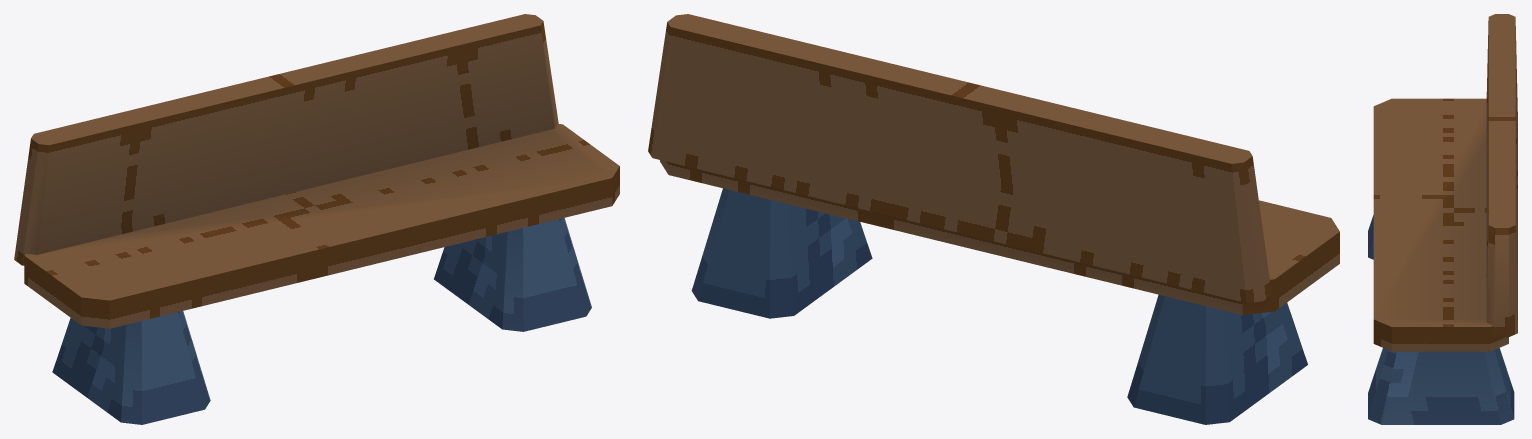
File: cydress.bench.glb
The picture shows the model from 3 angles, left to right: view 1: azimuth 30°, elevation 25°; view 2: azimuth 150°, elevation 25°; view 3: azimuth 270°, elevation 25°; orthographic projection. The views are drawn at different scales.
Parts seen in each view (by area): view 1: kit_body; view 2: kit_body; view 3: kit_body.
Part boxes in pixels (box(x1,y1,x2,y2)): kit_body: box(14, 14, 619, 424); kit_body: box(648, 14, 1339, 424); kit_body: box(1368, 14, 1517, 424).
Bounding box in the file's own units: 2.4 × 1 × 0.665.
2 materials, 2 textured.
